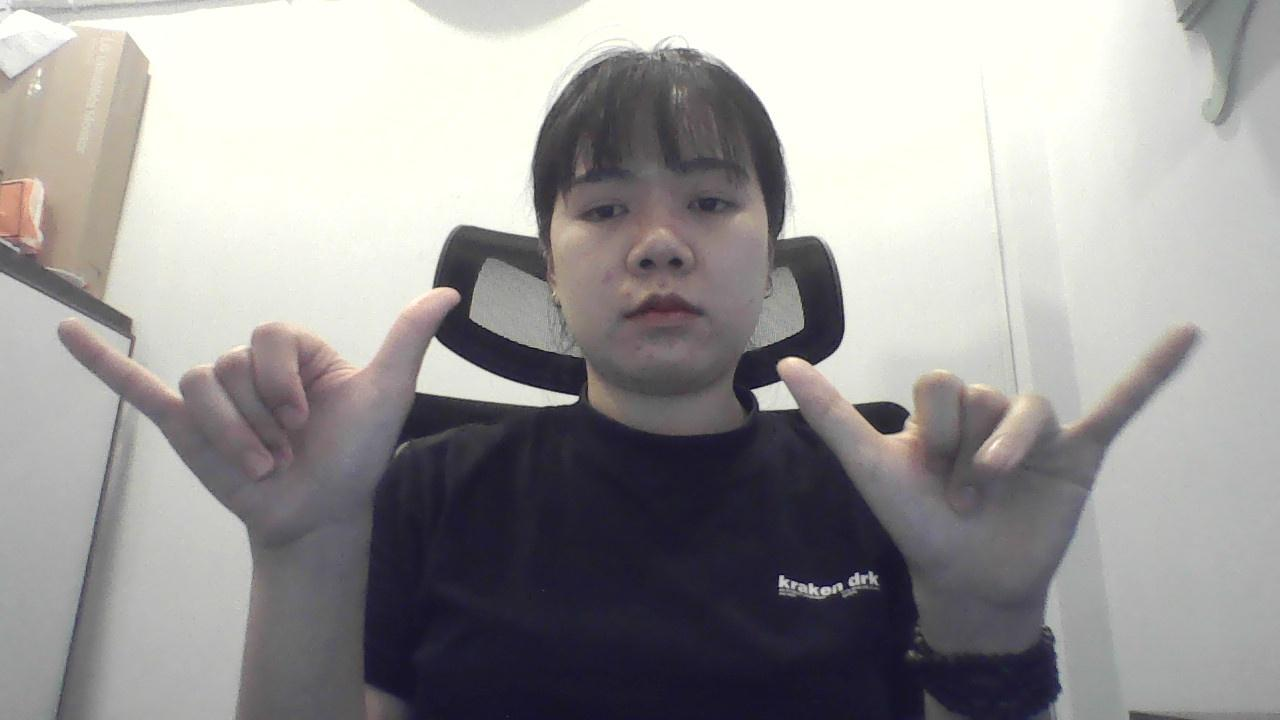Y: (765, 309, 1223, 629), (41, 282, 476, 550)
